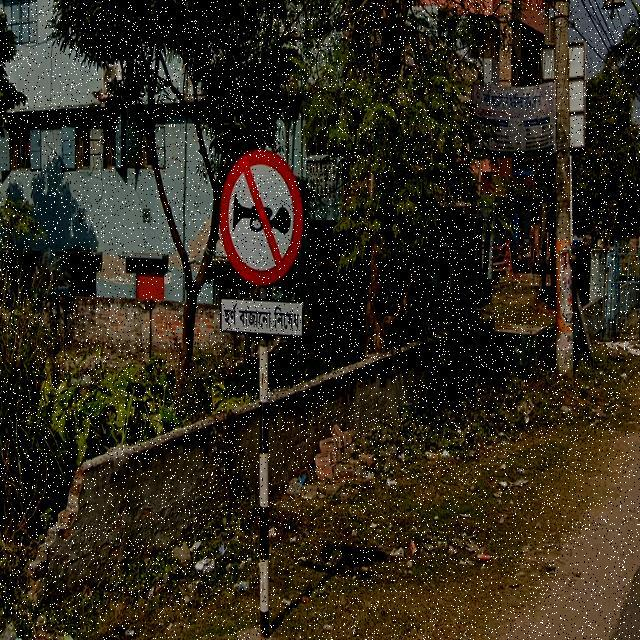Horn-blowing-is-prohibited: (210, 147, 308, 357)
